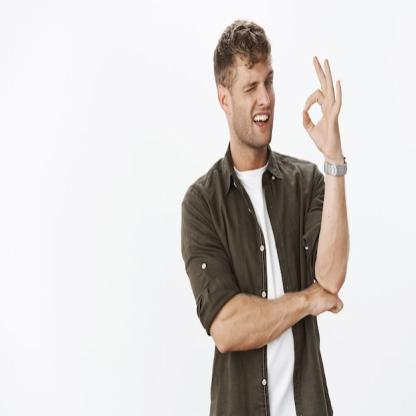ok: (298, 53, 346, 157)
